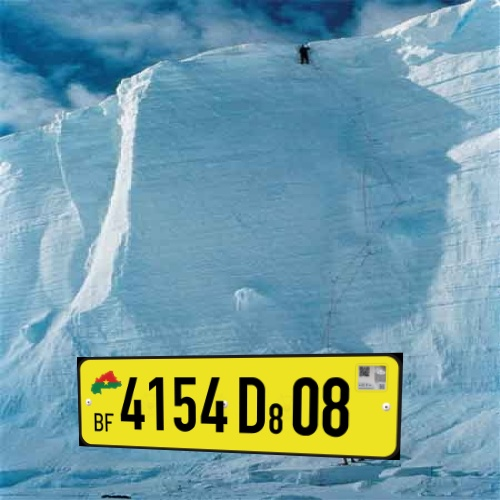plate: (61, 338, 417, 478)
